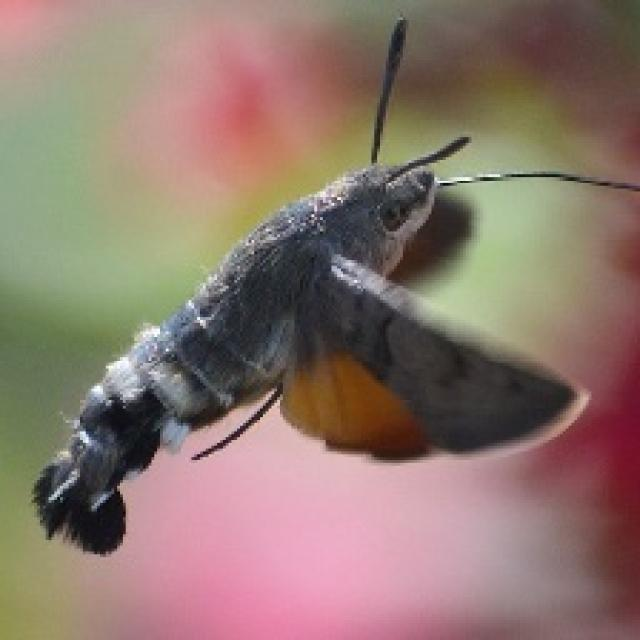butterfly: (26, 12, 637, 557)
